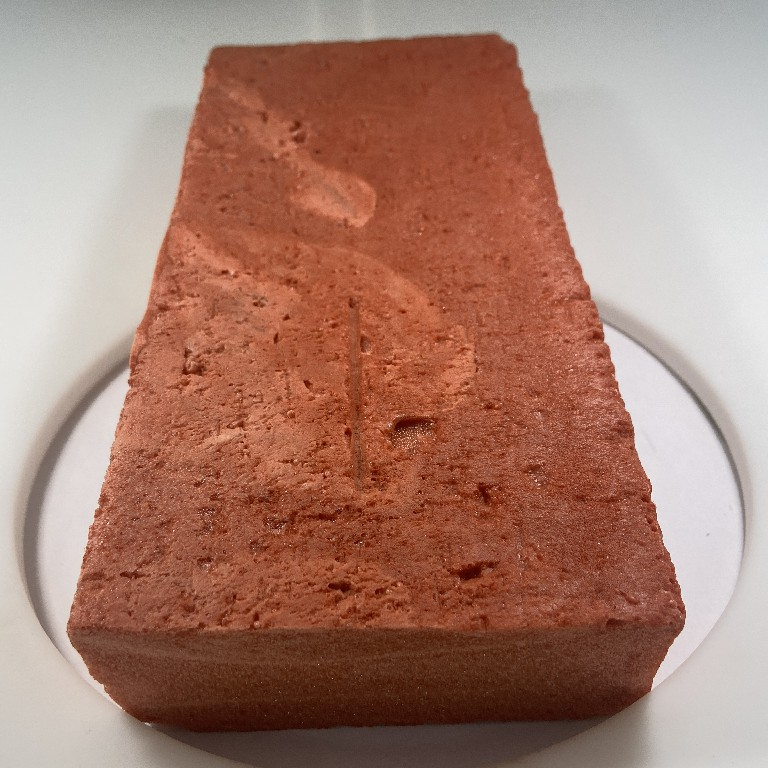brick: (60, 26, 693, 733)
